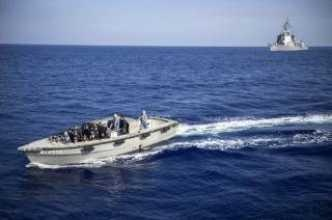otherboat: (17, 104, 173, 168)
